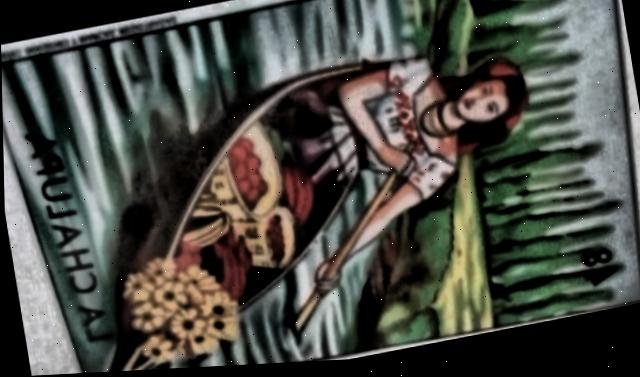La Chalupa: (1, 0, 640, 374)
